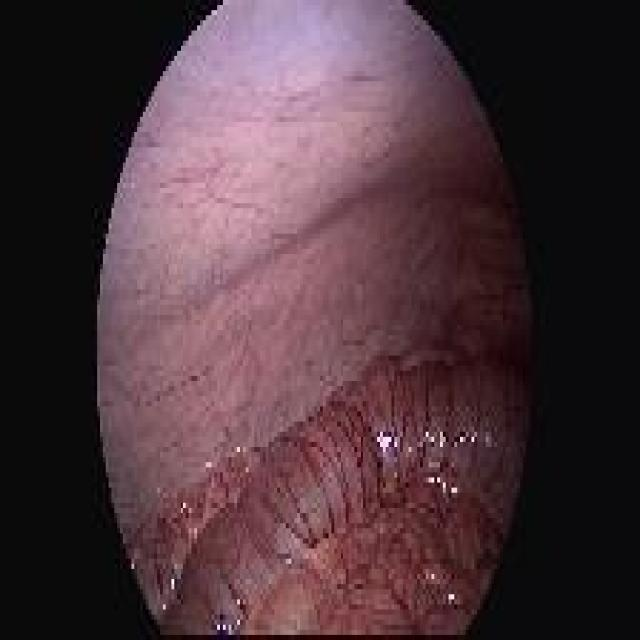contrast: (436, 178, 525, 515)
specularity: (416, 425, 479, 450), (427, 471, 461, 496), (376, 429, 399, 457), (213, 612, 235, 636), (444, 588, 456, 607), (168, 574, 179, 592), (401, 476, 411, 489), (406, 440, 414, 455)
